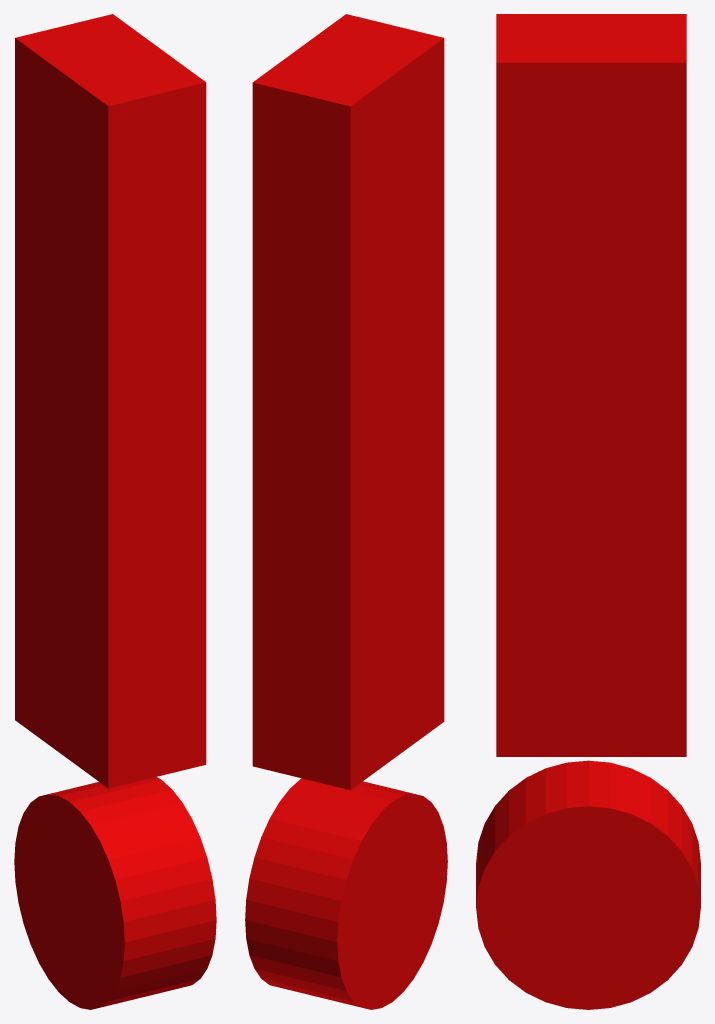
Rendered from EXMARK.fbx.
3 views of the same model, side by side, from view 1: azimuth 30°, elevation 25°; view 2: azimuth 150°, elevation 25°; view 3: azimuth 270°, elevation 25° (orthographic).
Parts seen in each view (by area): view 1: Cube; view 2: Cube; view 3: Cube.
Part boxes in pixels (bbox=[...]): Cube: bbox=[14, 14, 216, 1009]; Cube: bbox=[245, 14, 447, 1009]; Cube: bbox=[476, 14, 700, 1009].
Size of the model in its own units: 71.23 by 644 by 139.
